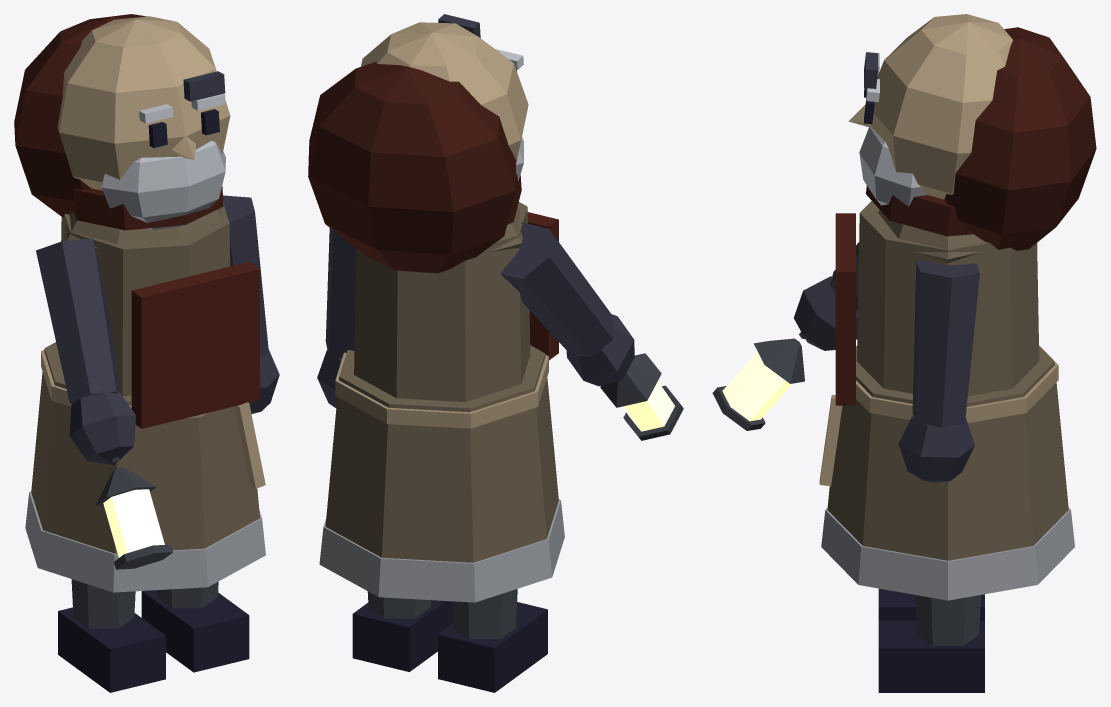
The model's file is hob_lantern.glb.
3 renders of one model, left to right at view 1: azimuth 30°, elevation 25°; view 2: azimuth 150°, elevation 25°; view 3: azimuth 270°, elevation 25°, orthographic.
Parts seen in each view (by area): view 1: Torso, Head, ArmR, LegR, LegL, ArmL; view 2: Torso, Head, ArmR, LegR, LegL, ArmL; view 3: Torso, Head, ArmL, LegL, ArmR, LegR.
Boxes of the visible parts, left/top/right/bottom form: Torso: left=25, top=201, right=265, bottom=592; Head: left=14, top=14, right=230, bottom=230; ArmR: left=36, top=238, right=172, bottom=569; LegR: left=58, top=579, right=165, bottom=692; LegL: left=141, top=581, right=249, bottom=672; ArmL: left=223, top=195, right=279, bottom=413; Torso: left=319, top=202, right=564, bottom=602; Head: left=308, top=14, right=528, bottom=273; ArmR: left=500, top=222, right=683, bottom=440; LegR: left=438, top=589, right=547, bottom=692; LegL: left=352, top=591, right=453, bottom=671; ArmL: left=317, top=228, right=356, bottom=408; Torso: left=819, top=201, right=1074, bottom=600; Head: left=848, top=14, right=1096, bottom=250; ArmL: left=898, top=260, right=979, bottom=482; LegL: left=878, top=595, right=984, bottom=692; ArmR: left=712, top=242, right=858, bottom=430; LegR: left=878, top=588, right=984, bottom=620.
Size of the model in its own units: 0.7148 by 1.71 by 0.9378.
